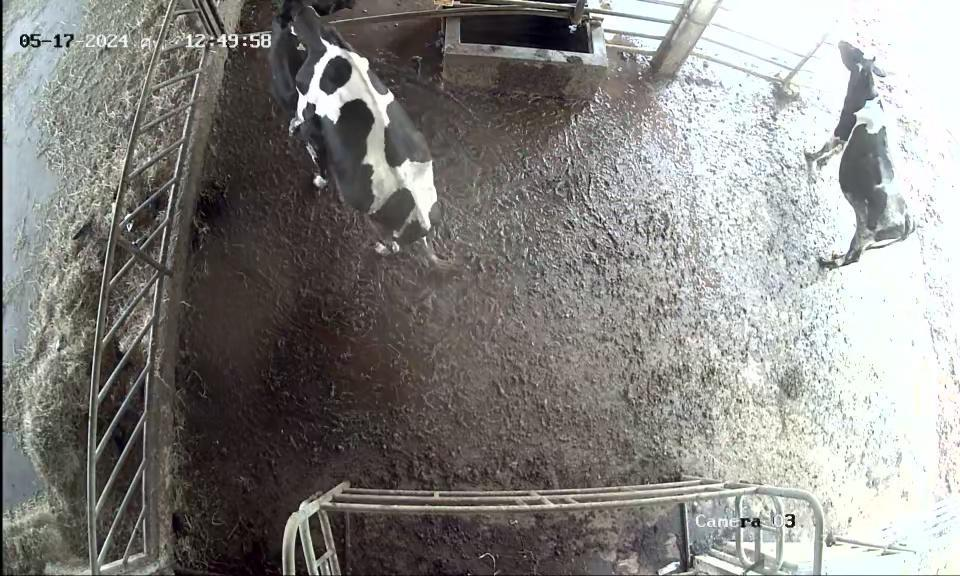ride: (283, 2, 453, 279)
stand: (787, 33, 919, 289), (254, 0, 323, 135)
